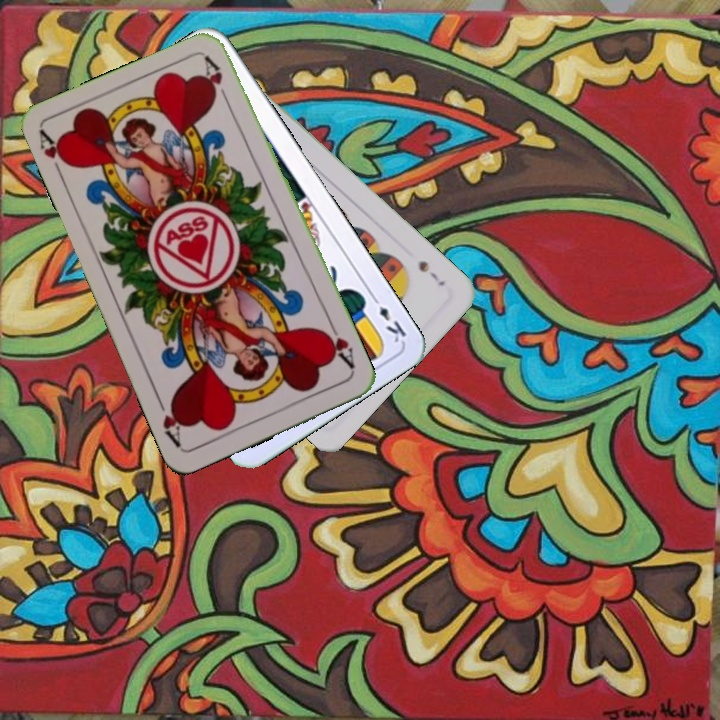EK: (367, 290, 410, 346)
HA: (35, 127, 74, 184), (318, 319, 358, 374)
S7: (414, 256, 449, 289)
